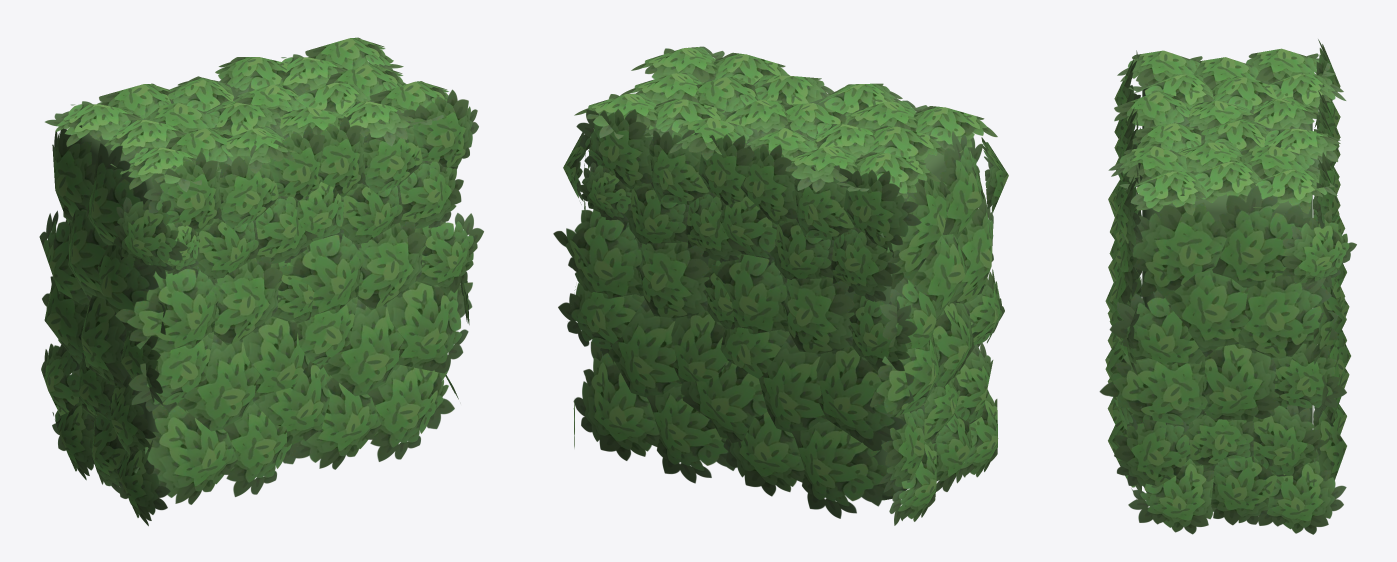
The model's file is hedge.glb.
The picture shows the model from 3 angles, left to right: view 1: azimuth 30°, elevation 25°; view 2: azimuth 150°, elevation 25°; view 3: azimuth 270°, elevation 25°; orthographic projection. The views are drawn at different scales.
Visible parts, largest first — view 1: Bush_2x2; view 2: Bush_2x2; view 3: Bush_2x2.
Part boxes in pixels (x1,y1,x2,y2): Bush_2x2: [39, 37, 483, 525]; Bush_2x2: [553, 46, 1008, 525]; Bush_2x2: [1099, 39, 1356, 534].
Bounding box in the file's own units: 1.8 × 1.63 × 1.19.
1 material, 1 textured.
